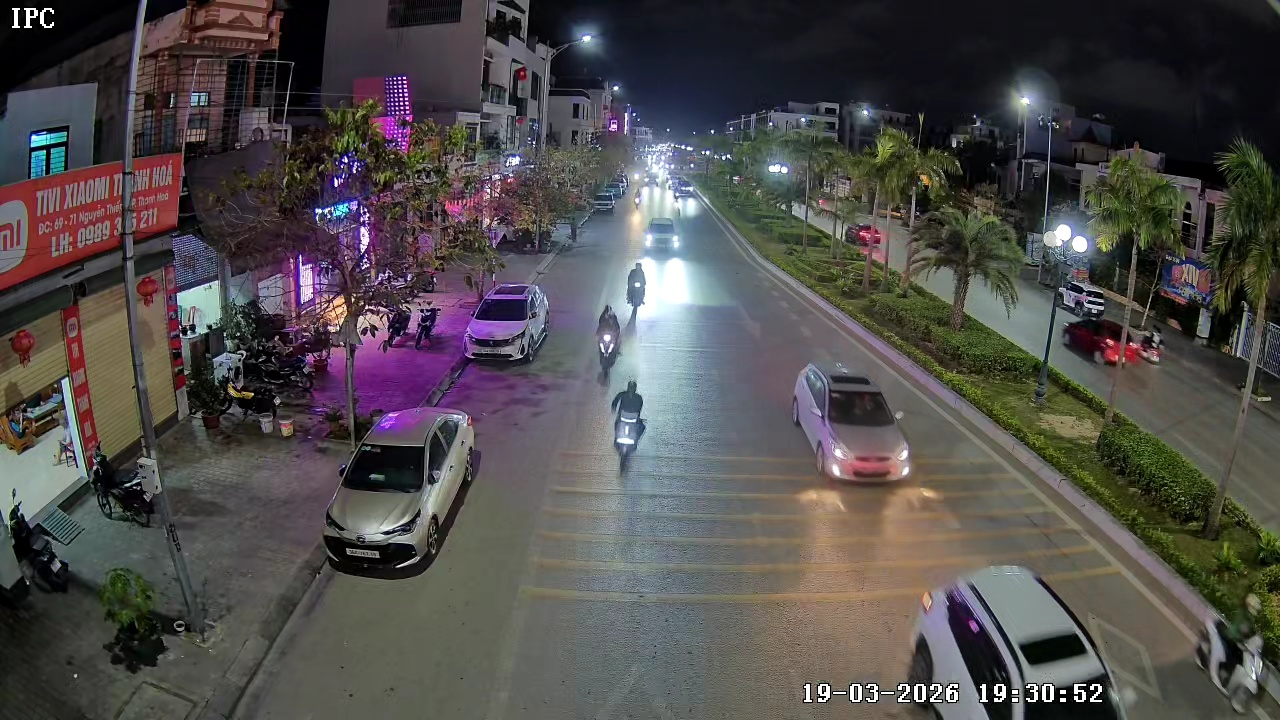car: (894, 562, 1127, 719), (322, 405, 481, 575), (792, 362, 913, 481), (464, 281, 552, 363), (643, 217, 680, 253)
motorbike: (608, 377, 648, 474), (594, 303, 624, 379), (624, 259, 648, 329)
